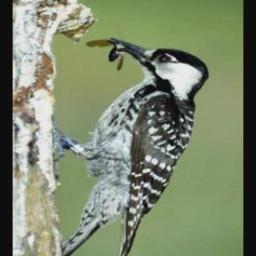Woodpecker: (61, 37, 211, 256)
